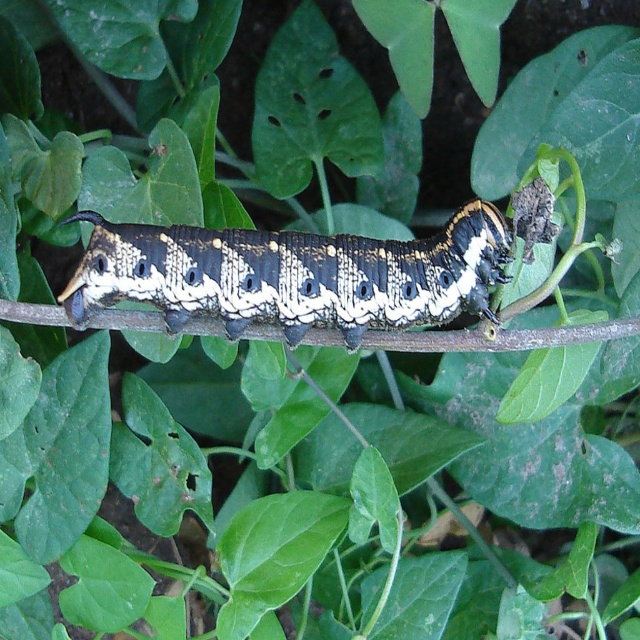Caterpillar: (58, 195, 514, 352)
